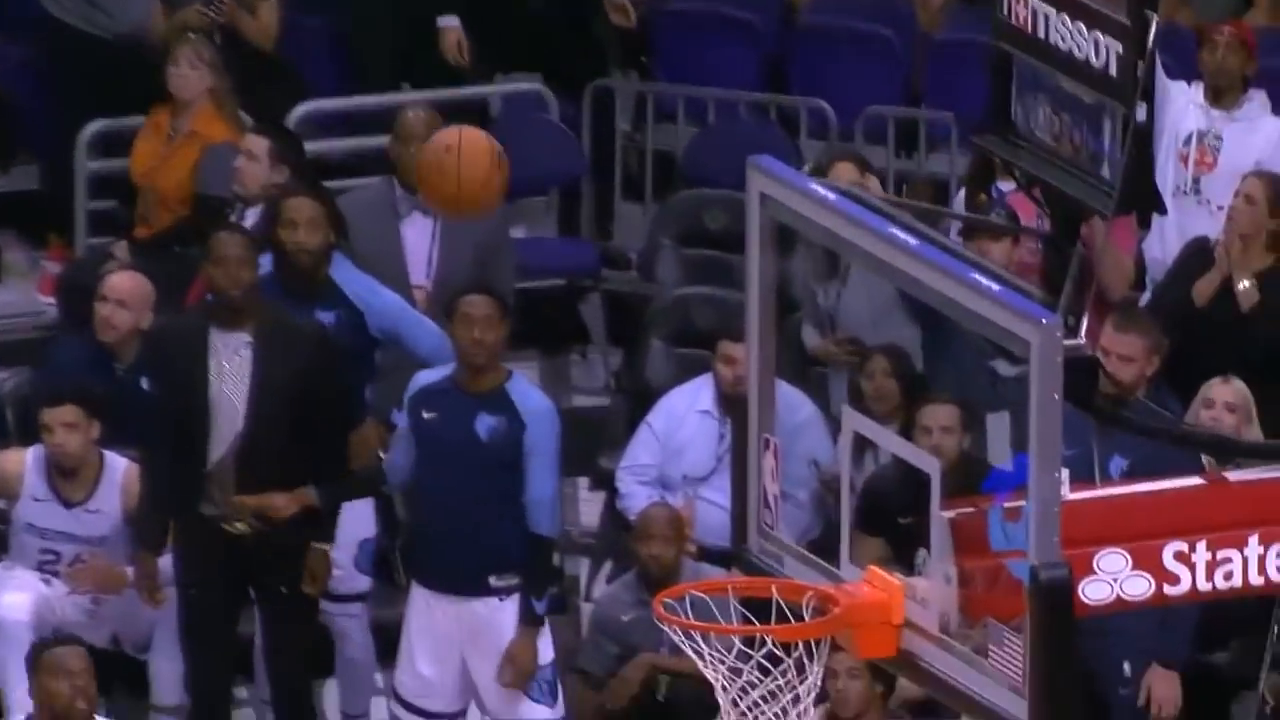ball: (422, 128, 507, 218)
